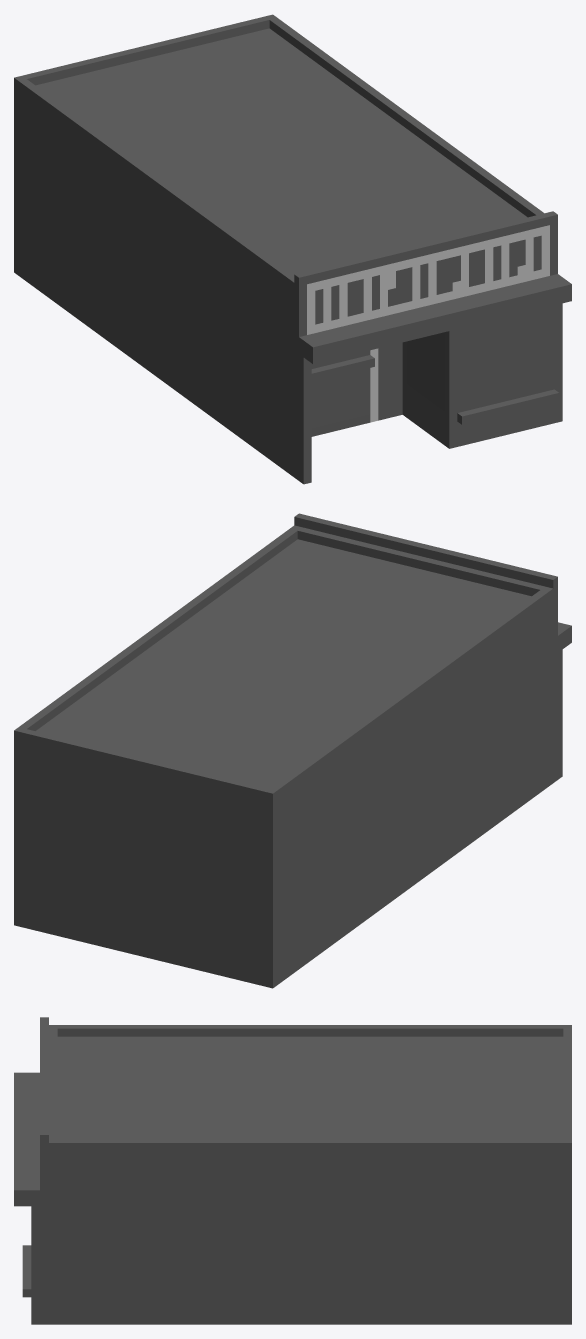
The model's file is bld_store11.obj.
The picture shows the model from 3 angles, top to bottom: view 1: azimuth 30°, elevation 25°; view 2: azimuth 150°, elevation 25°; view 3: azimuth 270°, elevation 25°; orthographic projection. The views are drawn at different scales.
Bounding box in the file's own units: 32 × 24 × 64.
